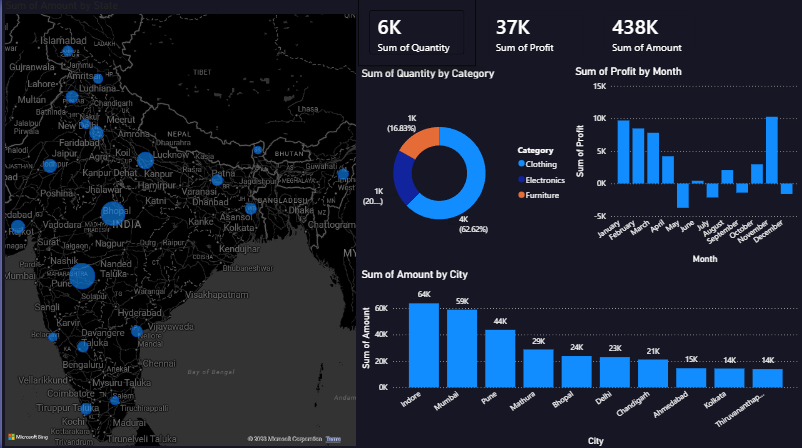

The dashboard page shown, as its layout file describes it:
{"tool":"powerbi","page":{"name":"Page 1","canvas":[1280,720],"ordinal":0},"visuals":[{"type":"donutChart","fields":{"Series":["Result.Category"],"Y":["Sum(Result.Quantity)"]},"box":[570,107.5,345,322.5],"z":0},{"type":"cardVisual","fields":{"Data":["Sum(Result.Quantity)"]},"box":[570.9,0,188.2,107.3],"z":1000},{"type":"cardVisual","fields":{"Data":["Sum(Result.Profit)"]},"box":[759.1,0,188.2,107.3],"z":2000},{"type":"clusteredColumnChart","fields":{"Category":["OrdersResult.City"],"Y":["Sum(Result.Amount)"]},"box":[569.8,430.2,709.5,290.5],"z":3000},{"type":"columnChart","fields":{"Y":["Sum(Result.Profit)"],"Category":["OrdersResult.Order Date.Variation.Date Hierarchy.Month"]},"box":[912.2,106.7,367.8,323.3],"z":4000},{"type":"cardVisual","fields":{"Data":["Sum(Result.Amount)"]},"box":[946.2,0,182.5,107.5],"z":5000},{"type":"map","fields":{"Size":["Sum(Result.Amount)"],"Category":["OrdersResult.State"]},"box":[0,0,571.7,720],"z":6000}]}

Visuals, with their boxes in screenshot pixels (x1, y1, x2, y2), scaled from the page's 1280x720 canvas onto the 802x448 screenshot:
donutChart - Result.Category x Sum(Result.Quantity): BBox(357, 67, 573, 268)
cardVisual - Sum(Result.Quantity): BBox(358, 0, 476, 67)
cardVisual - Sum(Result.Profit): BBox(476, 0, 594, 67)
clusteredColumnChart - OrdersResult.City x Sum(Result.Amount): BBox(357, 268, 801, 447)
columnChart - Sum(Result.Profit) x OrdersResult.Order Date.Variation.Date Hierarchy.Month: BBox(572, 66, 801, 268)
cardVisual - Sum(Result.Amount): BBox(593, 0, 707, 67)
map - Sum(Result.Amount) x OrdersResult.State: BBox(0, 0, 358, 447)
